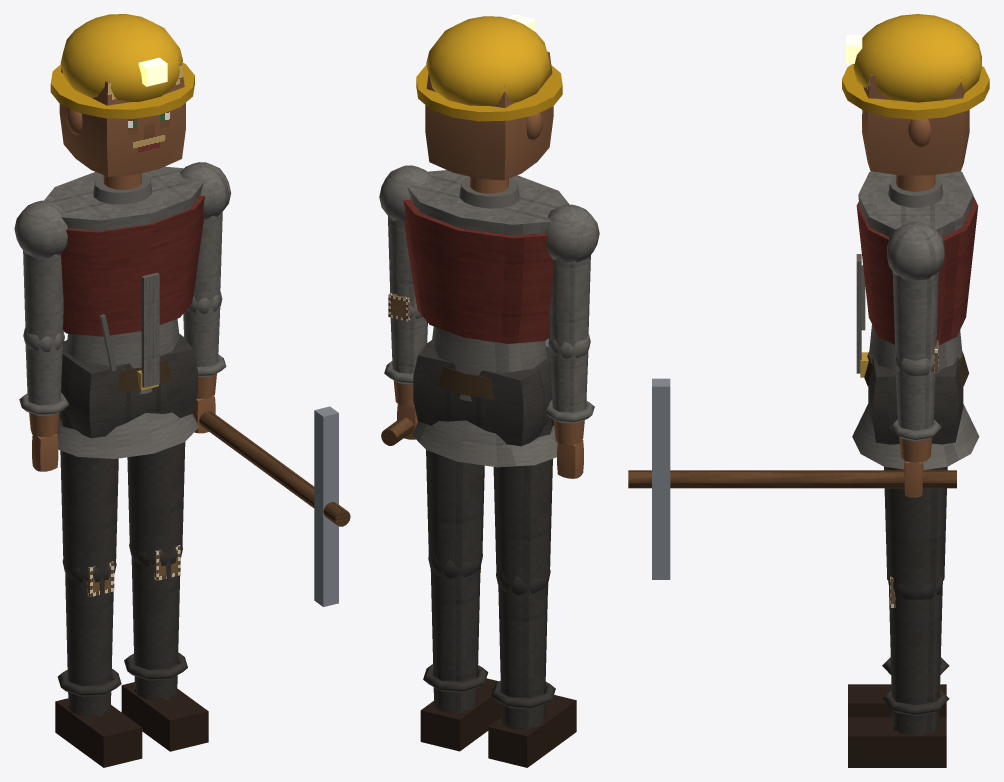
The model's file is minero.glb.
3 renders of one model, left to right at view 1: azimuth 30°, elevation 25°; view 2: azimuth 150°, elevation 25°; view 3: azimuth 270°, elevation 25°, orthographic.
Parts seen in each view (by area): view 1: minero, object 37, object 34, object 1, object 8, object 3, object 10, object 32, object 7, object 14, object 17, object 31 (+12 smaller); view 2: minero, object 37, object 34, object 1, object 10, object 3, object 8, object 7, object 17, object 14, object 38, object 16 (+16 smaller); view 3: minero, object 37, object 10, object 34, object 8, object 31, object 14, object 32, object 24, object 38, object 23, object 26 (+6 smaller).
Part boxes in pixels (box(x1,y1,x2,y2)): minero: box(44, 166, 204, 458); object 37: box(60, 14, 182, 101); object 34: box(59, 63, 185, 176); object 1: box(60, 410, 118, 574); object 8: box(127, 442, 185, 558); object 3: box(65, 573, 113, 716); object 10: box(131, 556, 180, 700); object 32: box(314, 406, 338, 606); object 7: box(55, 698, 142, 767); object 14: box(121, 682, 208, 751); object 17: box(23, 250, 63, 342); object 31: box(199, 411, 350, 526); minero: box(403, 170, 569, 467); object 37: box(426, 16, 550, 105); object 34: box(425, 51, 553, 180); object 1: box(493, 417, 552, 584); object 10: box(430, 564, 480, 712); object 3: box(498, 581, 547, 729); object 8: box(426, 450, 484, 568); object 7: box(488, 695, 576, 767); object 17: box(549, 255, 590, 349); object 14: box(420, 678, 501, 751); object 38: box(416, 65, 562, 121); object 16: box(545, 204, 599, 262); minero: box(852, 171, 979, 470); object 37: box(853, 14, 981, 102); object 10: box(889, 586, 942, 735); object 34: box(862, 74, 969, 175); object 8: box(884, 466, 947, 591); object 31: box(628, 470, 956, 488); object 14: box(848, 717, 946, 767); object 32: box(652, 378, 670, 579); object 24: box(892, 271, 938, 362); object 38: box(842, 64, 989, 119); object 23: box(887, 222, 944, 280); object 26: box(895, 363, 935, 441).
Size of the model in its own units: 0.6183 by 2 by 0.9098.
Materials: 19 (7 with a texture image).
